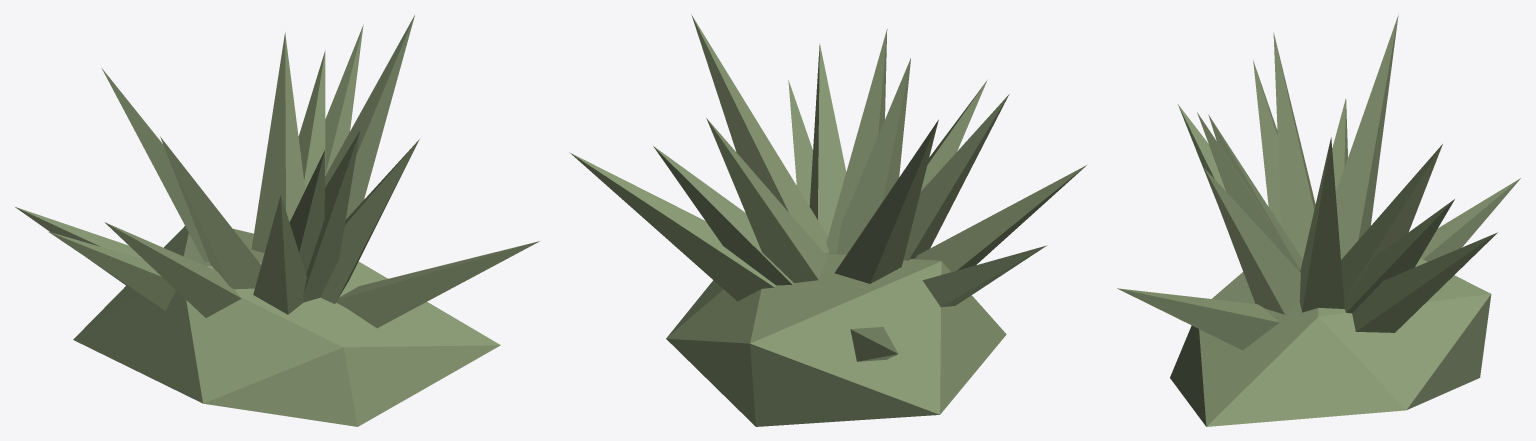
Rendered from Bush_Spiky.glb.
The picture shows the model from 3 angles, left to right: view 1: azimuth 30°, elevation 25°; view 2: azimuth 150°, elevation 25°; view 3: azimuth 270°, elevation 25°; orthographic projection. The views are drawn at different scales.
Parts seen in each view (by area): view 1: Leaves; view 2: Leaves; view 3: Leaves.
Boxes of the visible parts, left/top/right/bottom form: Leaves: left=15, top=15, right=539, bottom=426; Leaves: left=569, top=14, right=1086, bottom=426; Leaves: left=1117, top=14, right=1520, bottom=426.
Size of the model in its own units: 4.88 by 3.76 by 4.48.
